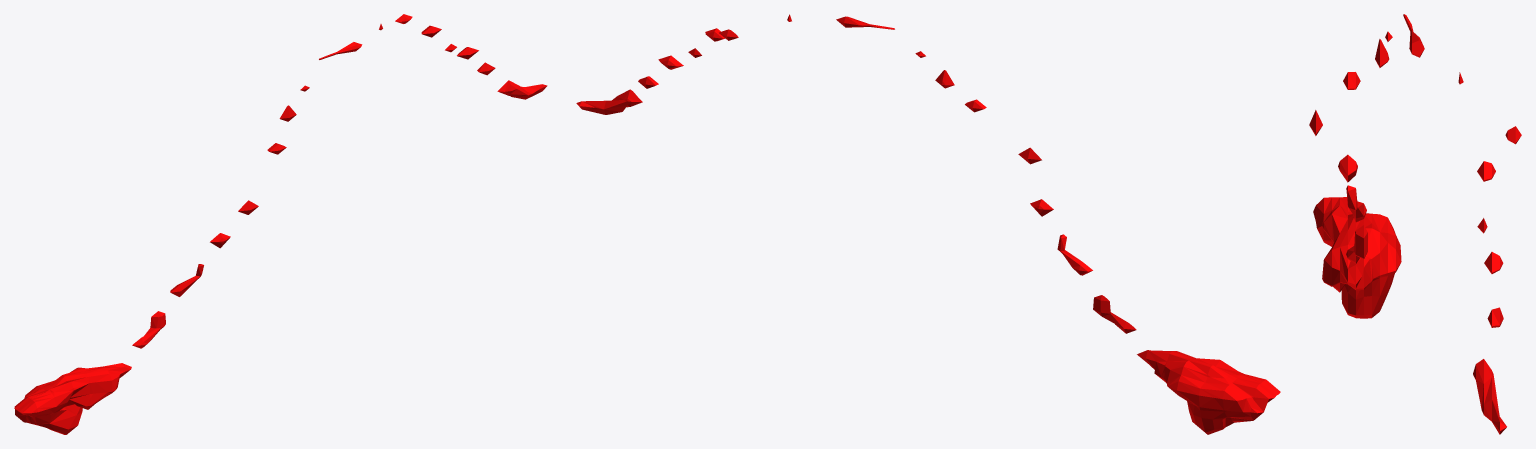
Rendered from lon_coarse.dae.
The picture shows the model from 3 angles, left to right: view 1: azimuth 30°, elevation 25°; view 2: azimuth 150°, elevation 25°; view 3: azimuth 270°, elevation 25°; orthographic projection. The views are drawn at different scales.
Visible parts, largest first — view 1: lon; view 2: lon; view 3: lon.
Boxes of the visible parts, box(x1,y1,x2,y2) form: lon: box(14, 14, 547, 434); lon: box(576, 14, 1280, 434); lon: box(1309, 14, 1521, 434).
Size of the model in its own units: 657 by 334 by 117.
